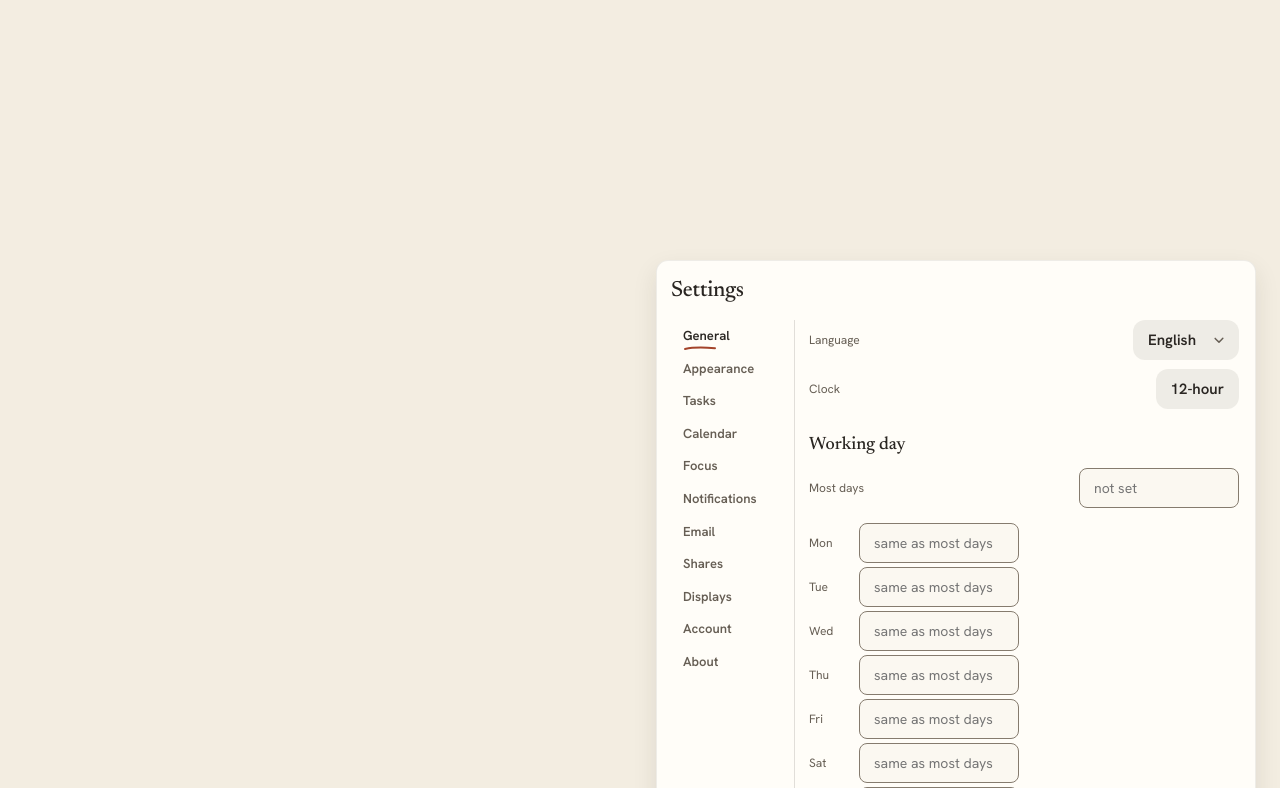
Scenario: <SettingsMenu> finishing a checklist with its last step › says Off when it is off, rather than only styling it
(page scrolled)
Click the tab "Tasks": (728, 401) [671,385,786,417]
(page scrolled)
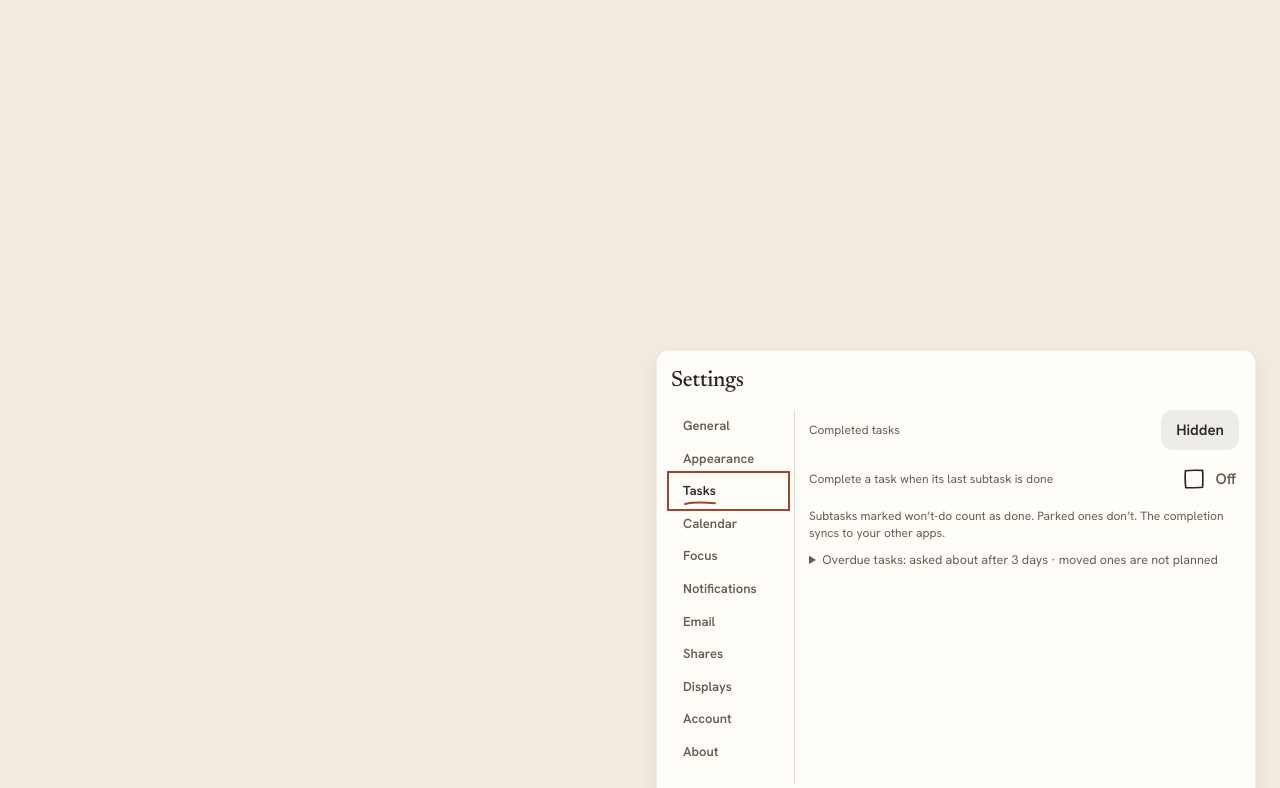
Check: the button named "Complete a task when its last subtask is done" reads "Off", box [1176,459,1239,499]
